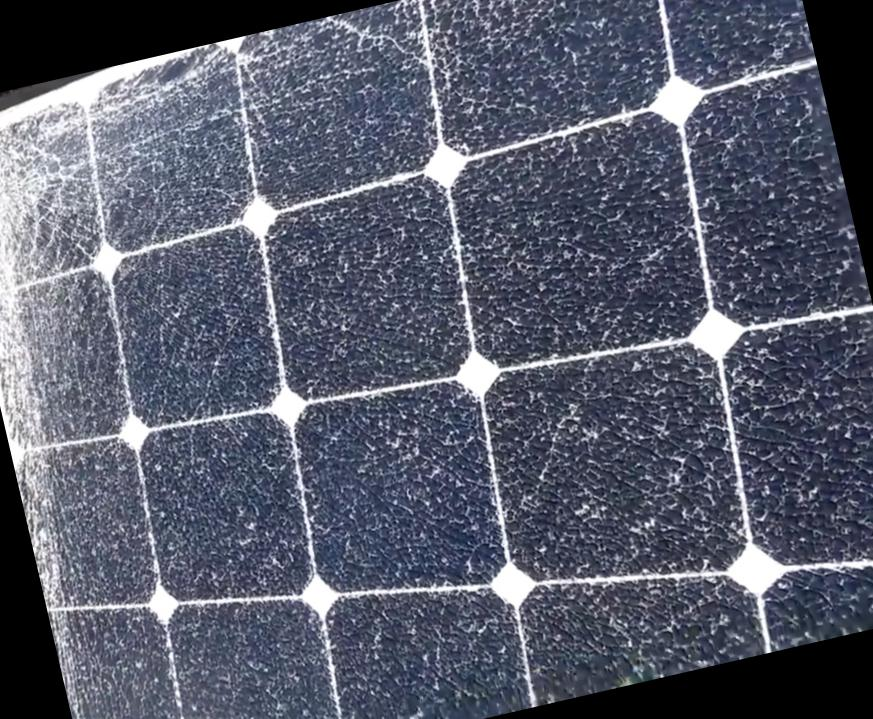Crack: (0, 85, 194, 367), (0, 129, 97, 610)
